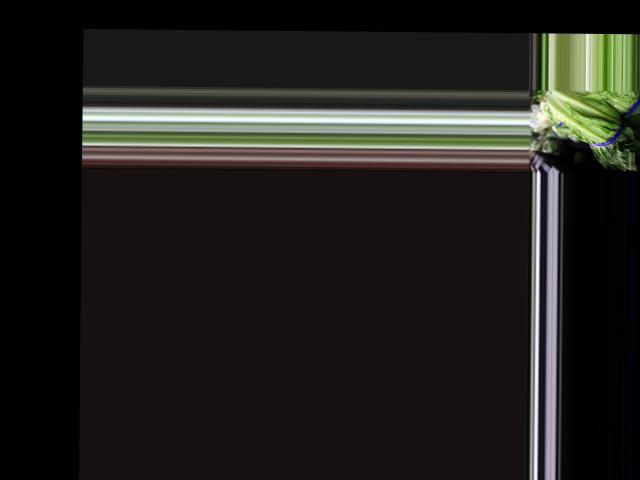lettuce: (550, 89, 640, 165)
